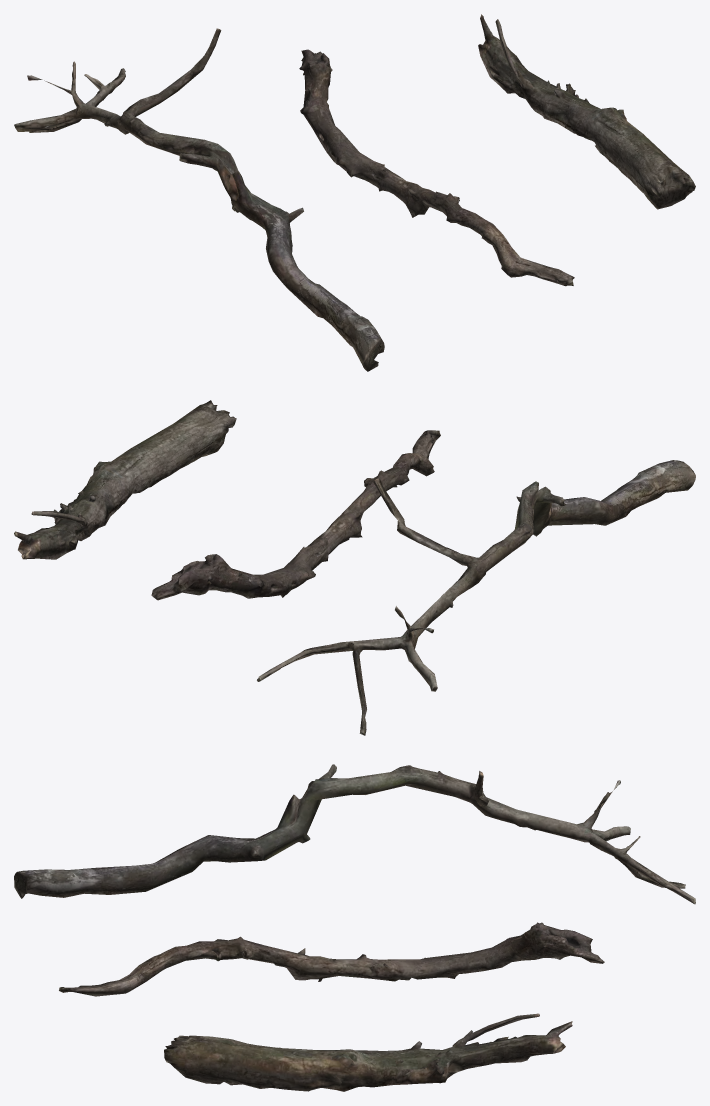
Rendered from dry_branches_medium_01.glb.
3 views of the same model, one above another, from view 1: azimuth 30°, elevation 25°; view 2: azimuth 150°, elevation 25°; view 3: azimuth 270°, elevation 25° (orthographic). The views are drawn at different scales.
Parts seen in each view (by area): view 1: dry_branches_medium_01_a, dry_branches_medium_01_c, dry_branches_medium_01_b; view 2: dry_branches_medium_01_a, dry_branches_medium_01_c, dry_branches_medium_01_b; view 3: dry_branches_medium_01_a, dry_branches_medium_01_c, dry_branches_medium_01_b.
Part boxes in pixels (left/top/right/bottom): dry_branches_medium_01_a: left=14, top=28, right=384, bottom=371; dry_branches_medium_01_c: left=478, top=14, right=695, bottom=209; dry_branches_medium_01_b: left=299, top=49, right=574, bottom=286; dry_branches_medium_01_a: left=257, top=460, right=695, bottom=735; dry_branches_medium_01_c: left=14, top=400, right=236, bottom=559; dry_branches_medium_01_b: left=151, top=430, right=440, bottom=600; dry_branches_medium_01_a: left=14, top=764, right=695, bottom=904; dry_branches_medium_01_c: left=164, top=1013, right=572, bottom=1091; dry_branches_medium_01_b: left=59, top=922, right=604, bottom=996.
Bounding box in the file's own units: 1.06 × 0.3401 × 1.3.
Materials: 1 (1 with a texture image).
